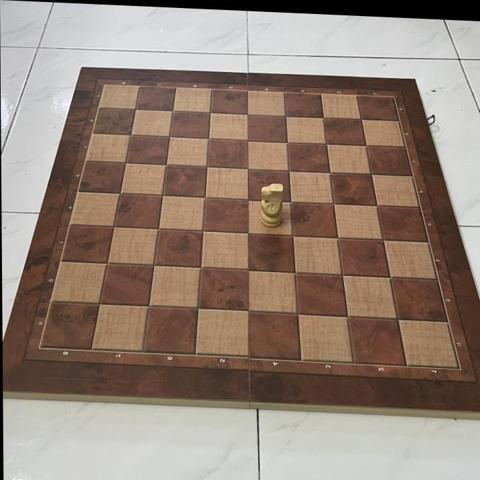xcorner: (202, 103, 220, 121), (315, 108, 333, 126), (318, 134, 336, 152), (158, 155, 176, 173), (150, 219, 168, 237), (192, 258, 210, 276), (334, 265, 352, 283), (91, 294, 109, 312), (289, 304, 307, 322), (389, 309, 407, 327), (128, 100, 145, 118), (165, 102, 183, 119), (240, 105, 257, 123), (353, 110, 371, 127), (162, 127, 179, 145), (201, 129, 218, 147), (279, 133, 297, 150), (358, 136, 375, 154), (199, 157, 216, 175), (240, 159, 257, 177), (363, 165, 381, 182), (154, 186, 172, 203), (106, 217, 123, 235), (195, 221, 212, 239), (240, 223, 257, 241), (284, 226, 302, 243), (145, 256, 163, 273), (239, 261, 257, 278), (140, 297, 158, 314), (190, 299, 207, 317), (239, 302, 257, 319), (339, 307, 357, 324), (278, 107, 295, 124), (123, 126, 140, 143), (240, 131, 257, 148), (118, 154, 135, 171), (281, 161, 298, 178), (322, 163, 339, 180), (112, 184, 129, 201), (197, 188, 214, 205), (240, 190, 257, 207), (283, 192, 300, 209), (326, 194, 343, 211), (369, 196, 386, 213), (330, 228, 347, 245), (375, 230, 392, 247), (99, 254, 116, 271), (287, 263, 304, 280), (382, 268, 399, 285)
